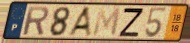5: (143, 6, 169, 40)
8: (50, 6, 72, 38)
A: (66, 5, 94, 38)
M: (91, 7, 122, 38)
R: (21, 6, 50, 37)
Z: (118, 7, 146, 38)
